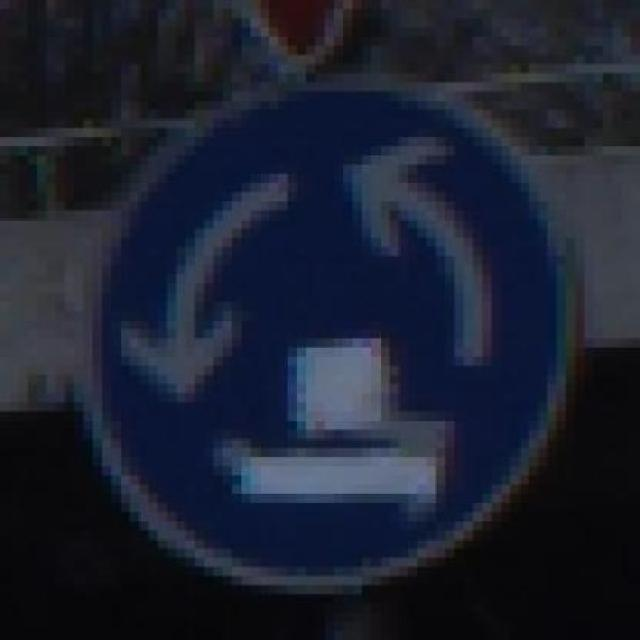Round-About: (56, 73, 593, 604)
